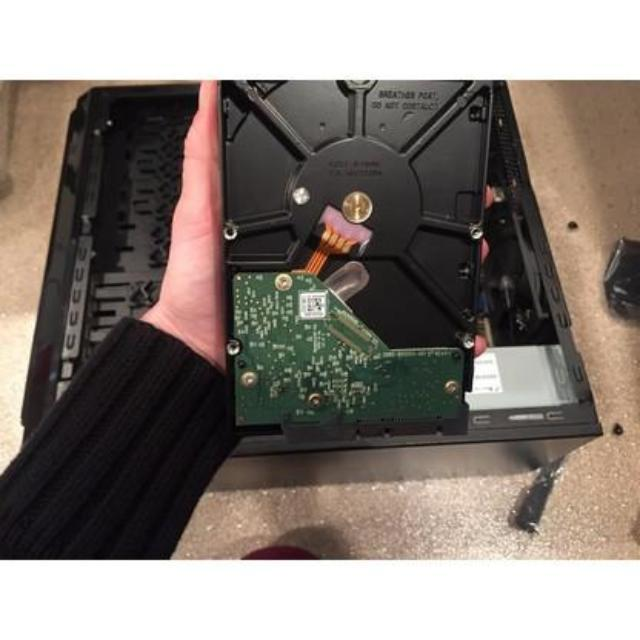DISK: (217, 83, 500, 449)
